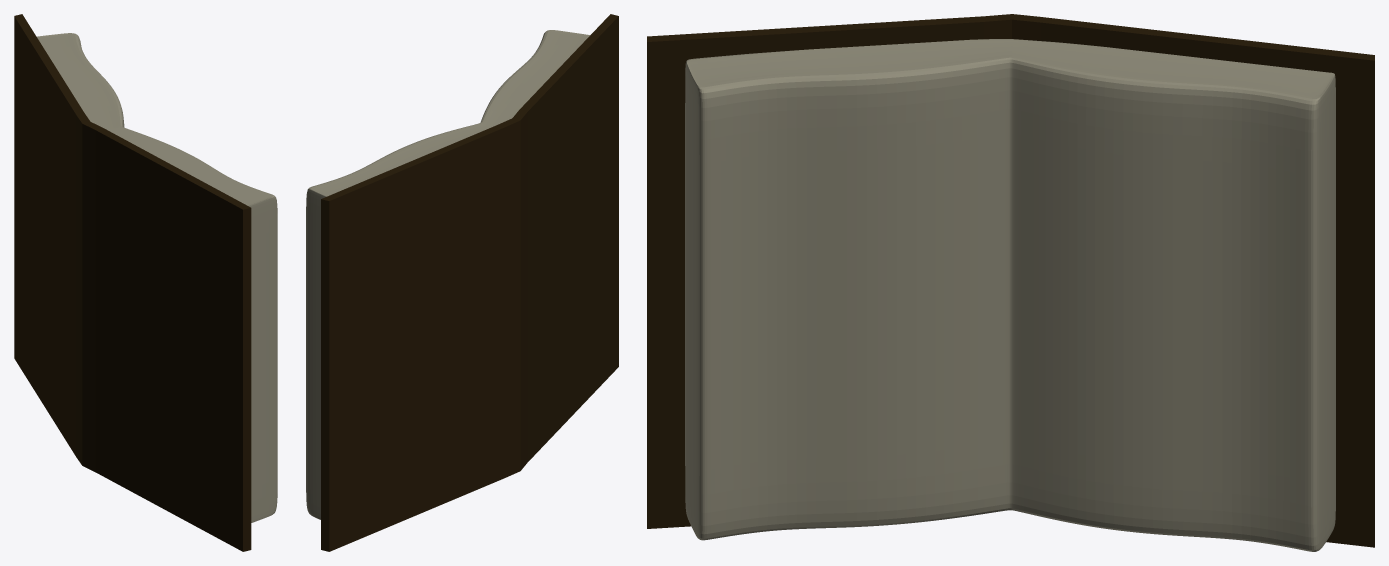
The model's file is Book.fbx.
3 views of the same model, side by side, from view 1: azimuth 30°, elevation 25°; view 2: azimuth 150°, elevation 25°; view 3: azimuth 270°, elevation 25° (orthographic). The views are drawn at different scales.
Visible parts, largest first — view 1: Cube.001, Cube; view 2: Cube.001, Cube; view 3: Cube, Cube.001.
Part boxes in pixels (box(x1,y1,x2,y2)): Cube.001: box(14, 14, 251, 551); Cube: box(37, 33, 277, 522); Cube.001: box(321, 14, 618, 551); Cube: box(306, 30, 589, 519); Cube: box(685, 39, 1335, 551); Cube.001: box(647, 14, 1374, 547).
Size of the model in its own units: 86.05 by 272 by 368.
